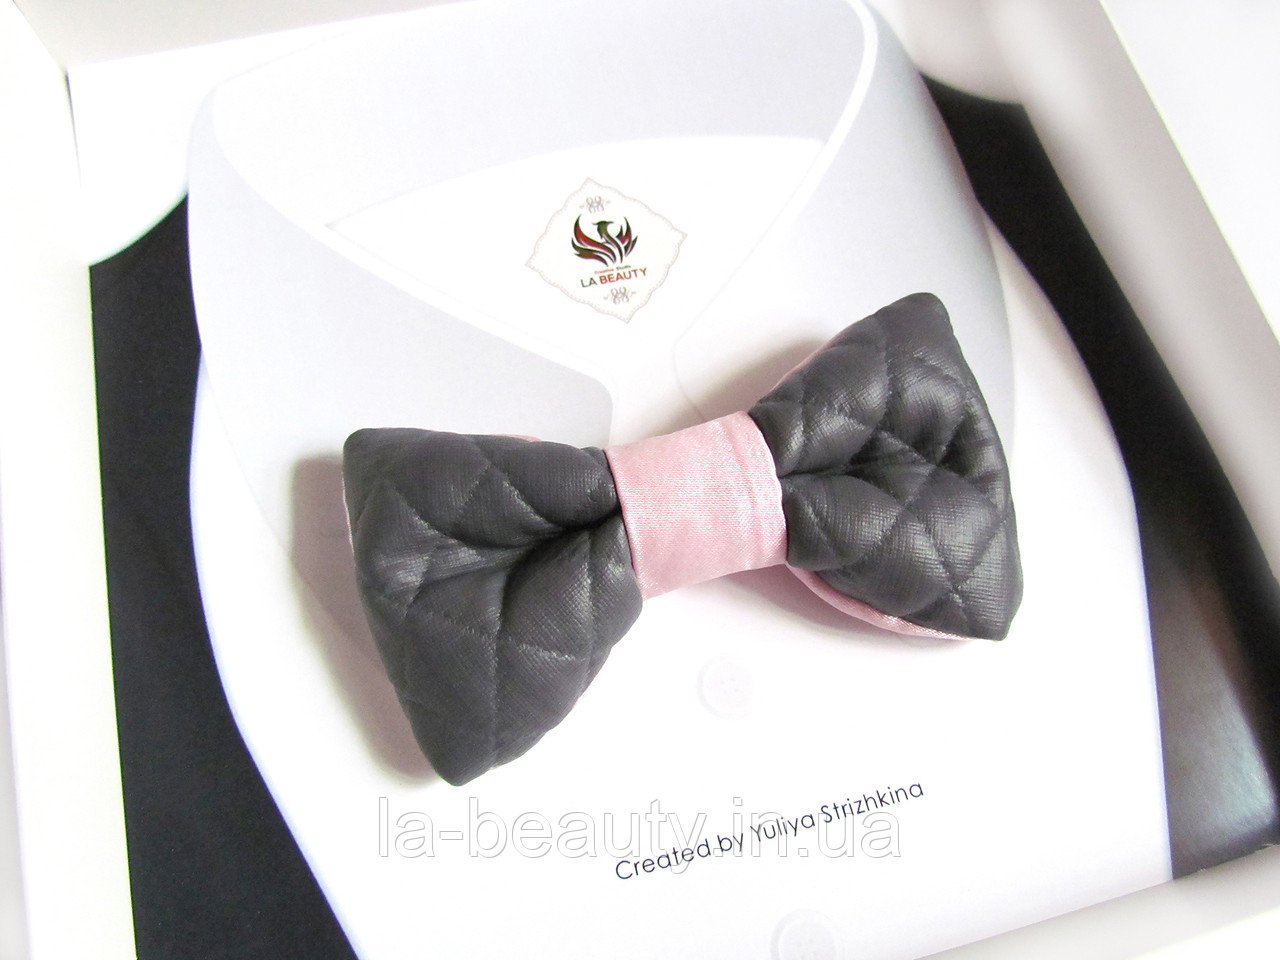bow: (327, 281, 1058, 794)
